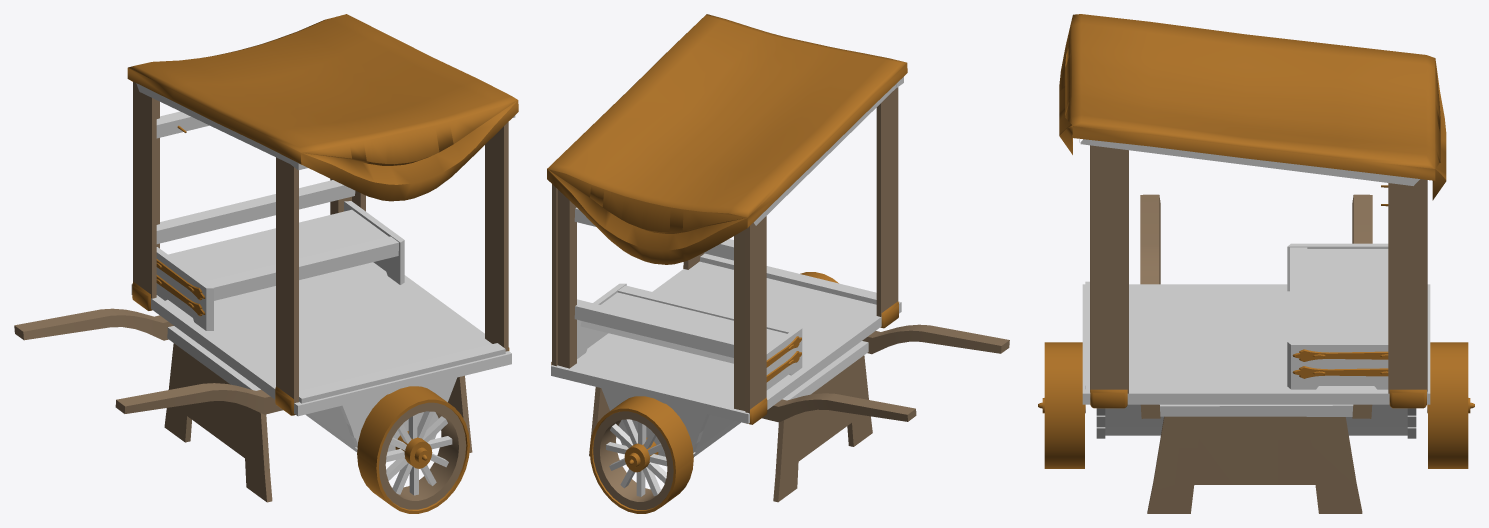
Rendered from cart.glb.
The picture shows the model from 3 angles, left to right: view 1: azimuth 30°, elevation 25°; view 2: azimuth 150°, elevation 25°; view 3: azimuth 270°, elevation 25°; orthographic projection. The views are drawn at different scales.
Parts seen in each view (by area): view 1: Stall_Cart_Empty; view 2: Stall_Cart_Empty; view 3: Stall_Cart_Empty.
Part boxes in pixels (x1,y1,x2,y2): Stall_Cart_Empty: (14, 14, 518, 513); Stall_Cart_Empty: (547, 14, 1009, 513); Stall_Cart_Empty: (1038, 14, 1474, 513).
Size of the model in its own units: 1 by 1 by 1.
